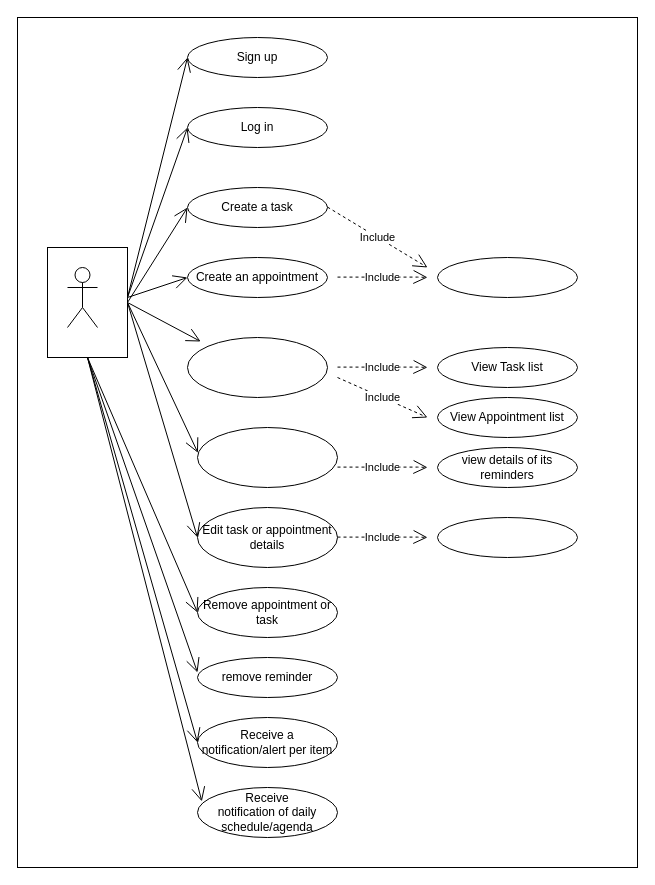
Image size: 655x885. Some labels were removed from this diagram. The shapes that lost their labels are listed below. From the top down, each one's centre as x and y in pixels, then its label:
At [82,297]: "User".
At [507,277]: "set a reminder".
At [257,367]: "View agenda/schedule organized by categories".
At [267,457]: "View the details of a task or appointment".
At [507,537]: "edit details of its reminders".
